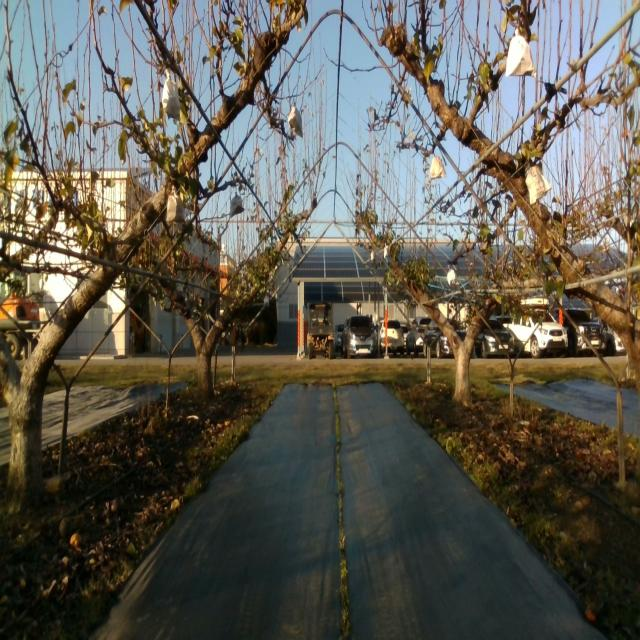pearbags: (505, 28, 537, 79), (525, 164, 553, 206), (162, 67, 180, 119), (167, 183, 186, 225), (288, 105, 304, 138), (430, 154, 446, 179), (230, 192, 244, 218), (446, 263, 459, 284)
